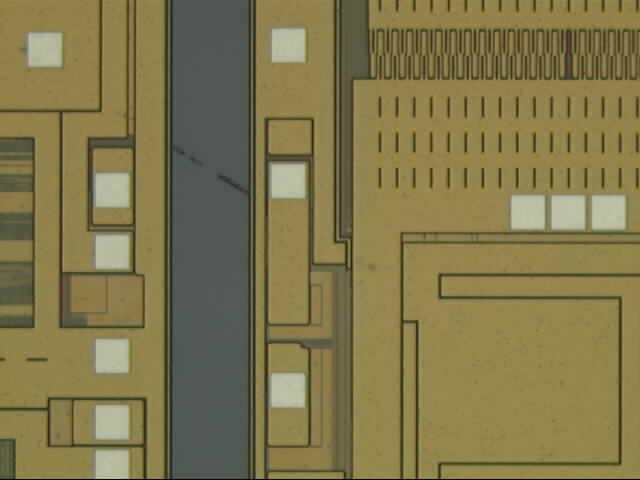SCRATCH: (14, 42, 383, 280)
